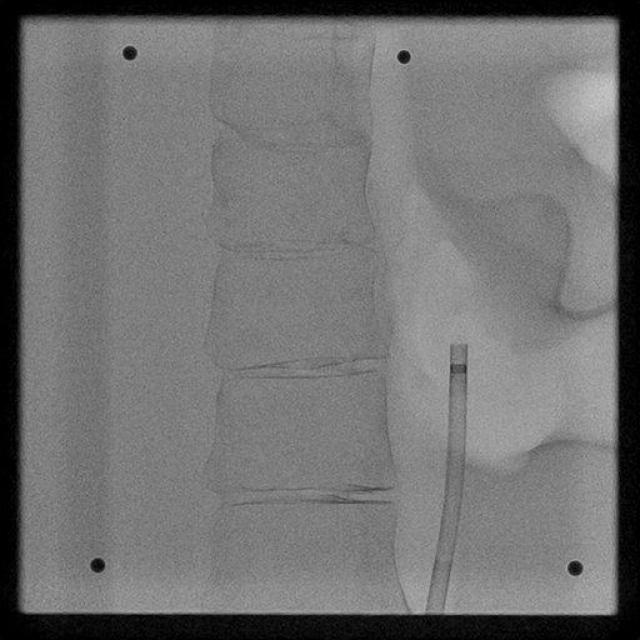bend: (437, 547, 455, 559)
entry: (426, 608, 444, 614)
marker: (448, 362, 468, 373)
tip: (449, 340, 468, 349)
